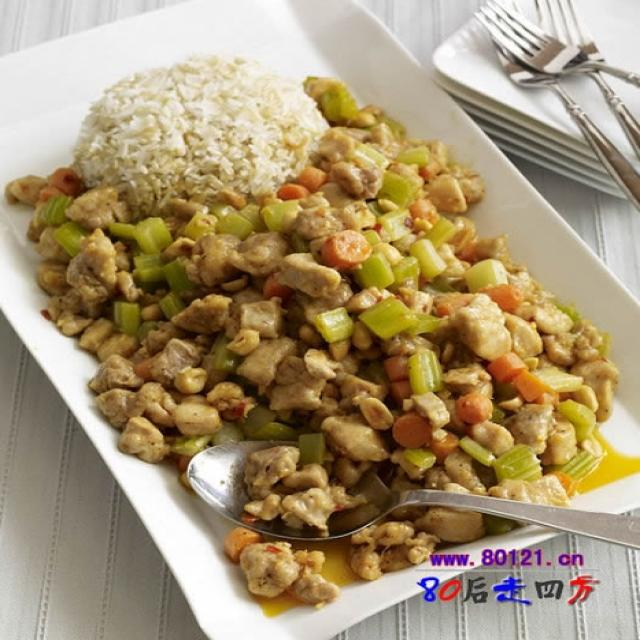鸡肉料理 含炸鸡: (33, 53, 617, 615)
